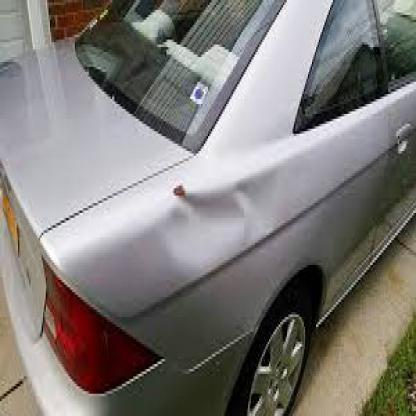dent: (157, 199, 254, 262)
